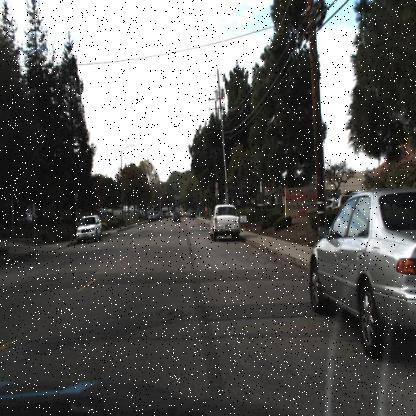car: (306, 187, 416, 345), (209, 201, 241, 244), (209, 203, 240, 239), (74, 215, 107, 245), (76, 212, 104, 241), (169, 208, 184, 227), (145, 206, 160, 223)
